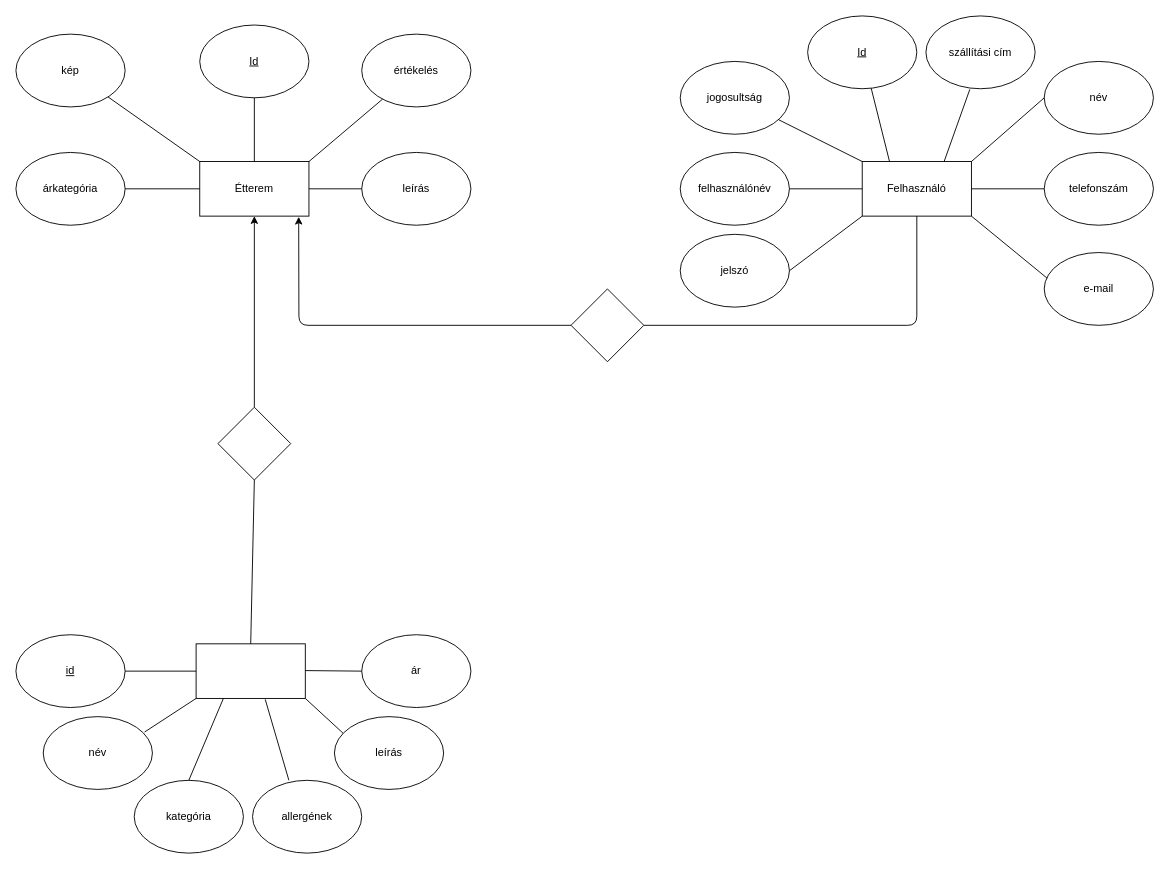
This 1169x869 diagram has some shape labels left out. The centre of each missing label's shape, as x and y in pixels:
"Rendel" goes at point 607,325.
"Tartalmazza" goes at point 254,443.
"Étel" goes at point 250,670.
